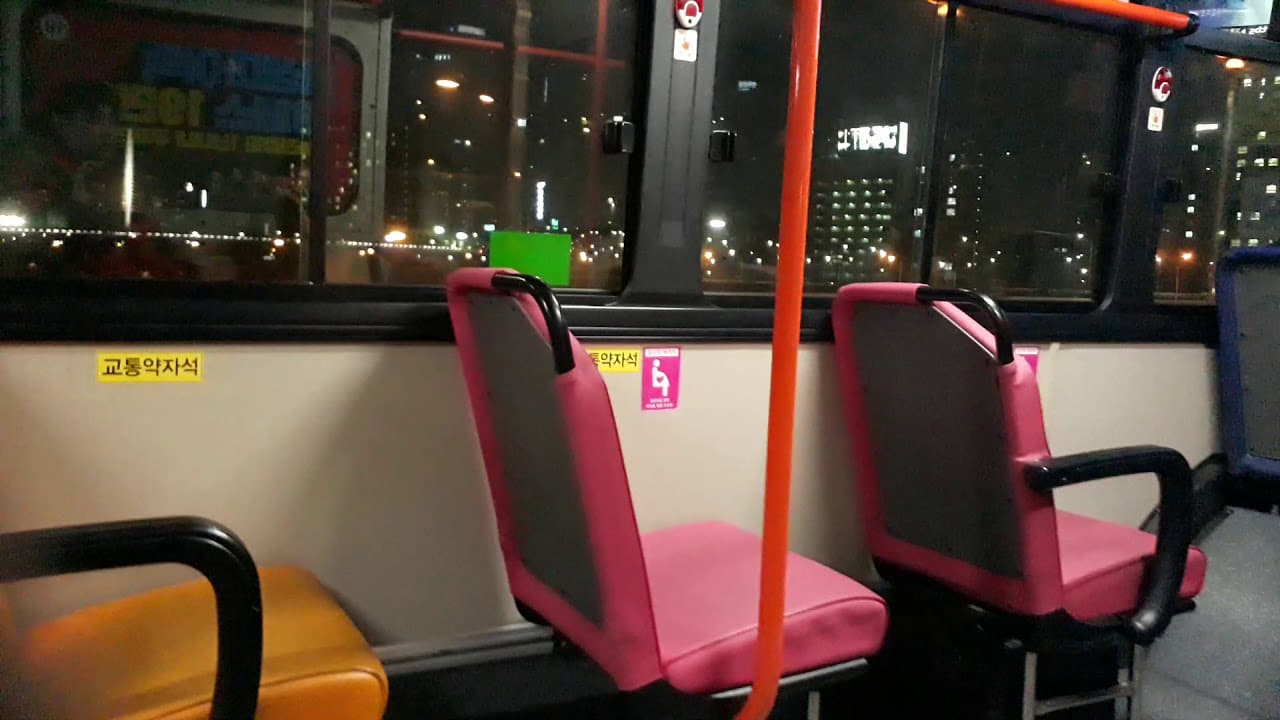seat: (439, 258, 891, 683)
